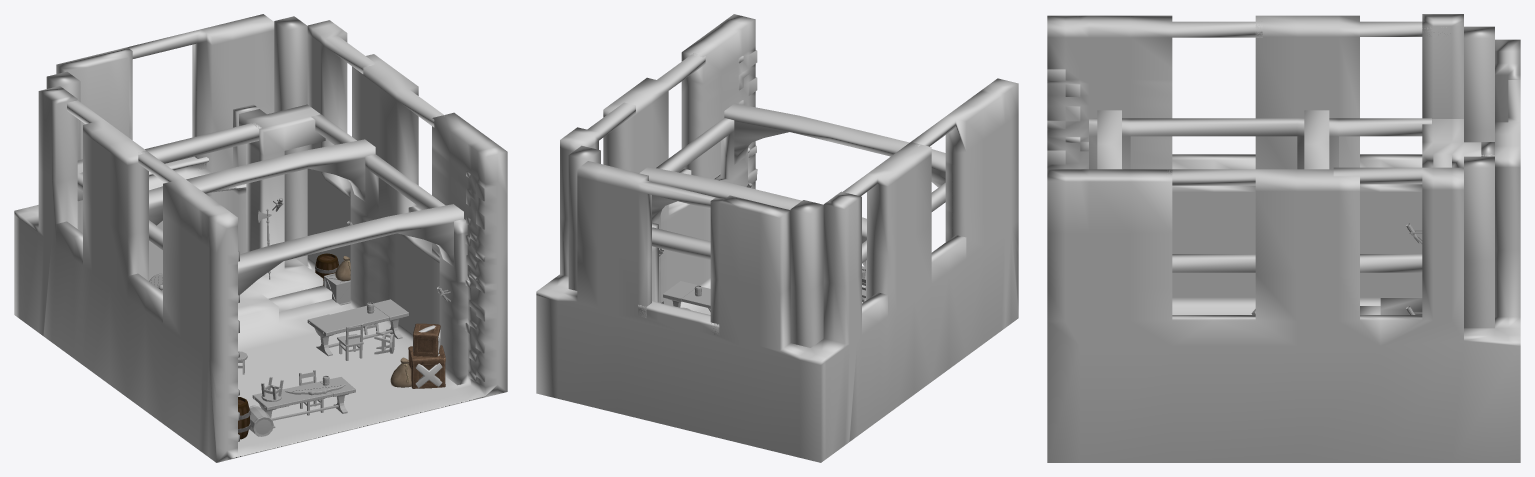
File: Ingerichte Throne Room.fbx
3 views of the same model, side by side, from view 1: azimuth 30°, elevation 25°; view 2: azimuth 150°, elevation 25°; view 3: azimuth 270°, elevation 25° (orthographic). The views are drawn at different scales.
Visible parts, largest first — view 1: ThroneRoom:troonkamer, tafel_rechthoek1, tafel_rechthoek3, box_LOW1 (×2), box:pCube11, chair, barrel; view 2: ThroneRoom:troonkamer, tafel_rechthoek1; view 3: ThroneRoom:troonkamer.
Boxes of the visible parts, bbox=[...] form: ThroneRoom:troonkamer: bbox=[14, 14, 507, 462]; tafel_rechthoek1: bbox=[307, 299, 408, 356]; tafel_rechthoek3: bbox=[252, 377, 355, 428]; box_LOW1 (×2): bbox=[408, 323, 445, 388]; box:pCube11: bbox=[324, 273, 350, 305]; chair: bbox=[337, 324, 363, 360]; barrel: bbox=[249, 405, 273, 436]; ThroneRoom:troonkamer: bbox=[536, 14, 1018, 462]; tafel_rechthoek1: bbox=[663, 281, 710, 308]; ThroneRoom:troonkamer: bbox=[1047, 14, 1520, 462].
Bounding box in the file's own units: 19.59 × 15.74 × 23.56.
